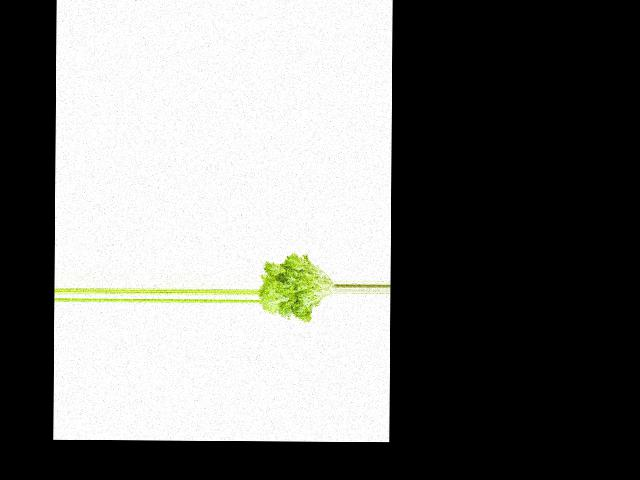lettuce: (258, 249, 337, 323)
